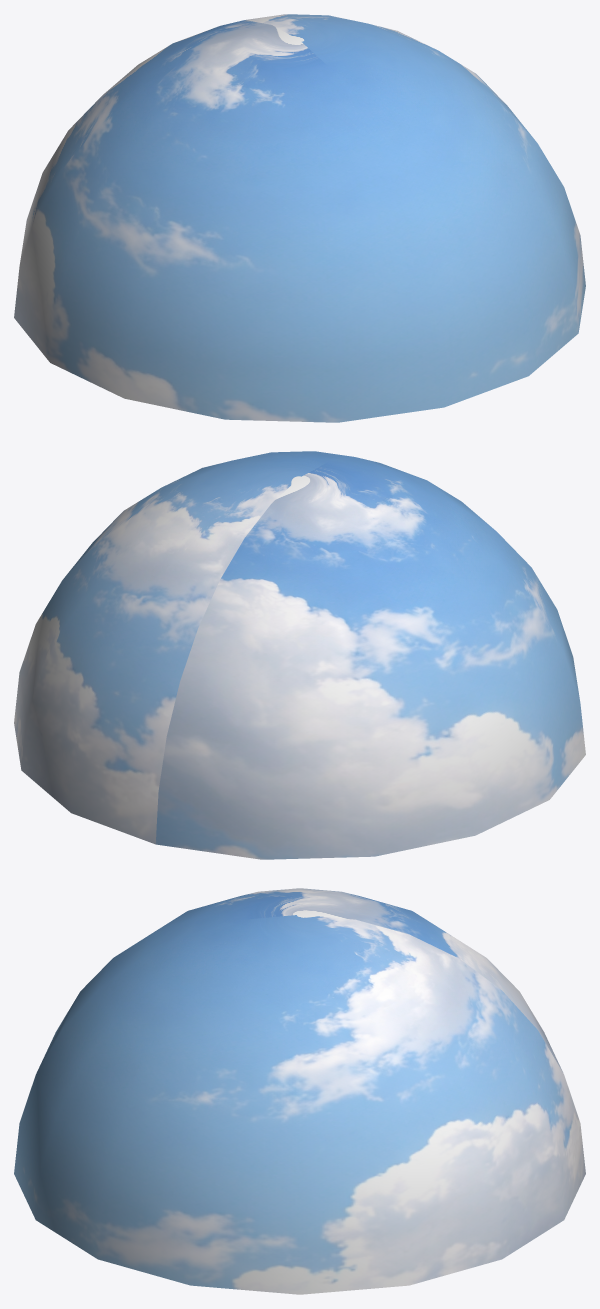
File: Sky.fbx
3 renders of one model, top to bottom at view 1: azimuth 30°, elevation 25°; view 2: azimuth 150°, elevation 25°; view 3: azimuth 270°, elevation 25°, orthographic.
Visible parts, largest first — view 1: pSphere1; view 2: pSphere1; view 3: pSphere1.
Boxes of the visible parts, bbox=[...] form: pSphere1: bbox=[14, 14, 585, 422]; pSphere1: bbox=[14, 451, 585, 859]; pSphere1: bbox=[14, 888, 585, 1294].
Size of the model in its own units: 1000 by 500 by 1000.
1 material, 1 textured.
